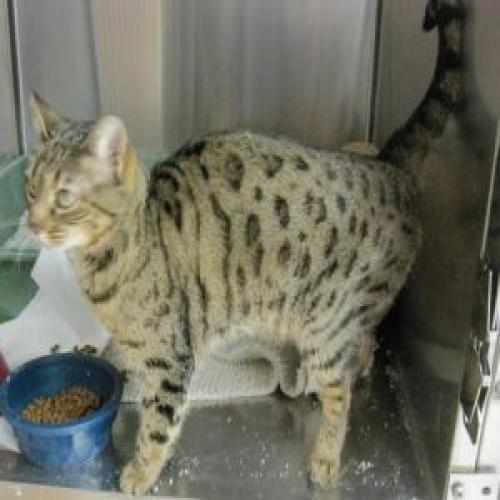cat-face: (12, 90, 143, 259)
